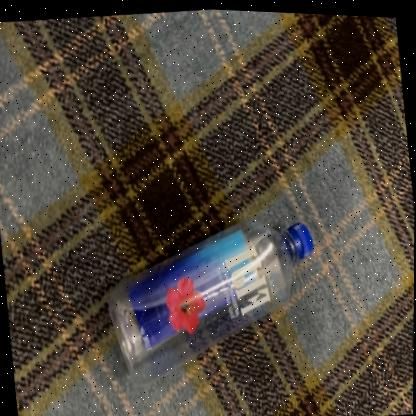Plastic: (108, 216, 313, 382)
